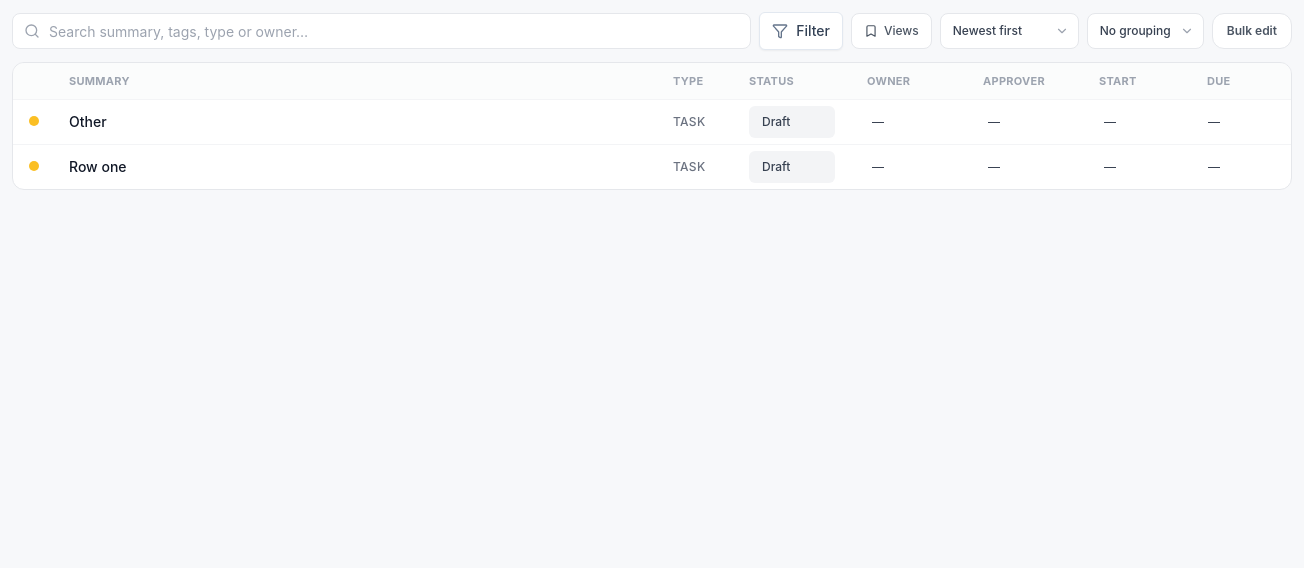
Test: ListView row context menu (Step 1) › opens custom menu on right-click and lists actions
The image size is (1304, 568).
Expected: the text "Row one" is shown, [69,158,126,175]
Step 1. Right-click the text "Row one" → (652, 167), box [13,144,1291,189]
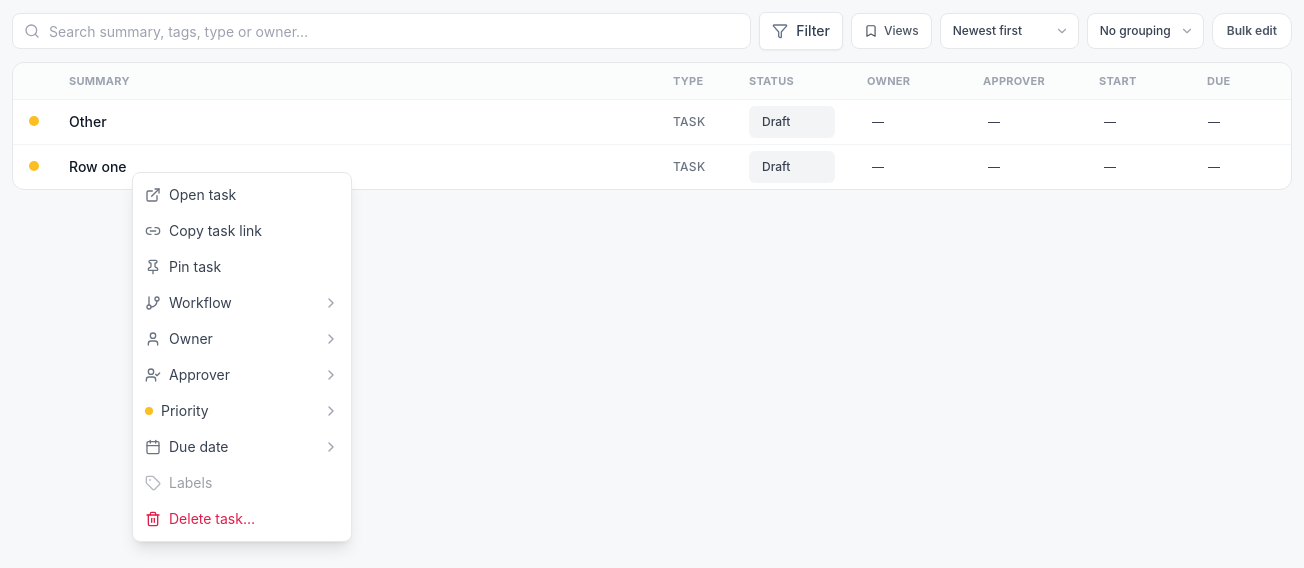
Now the menu item "Open task" is shown, box [133,177,351,213]
Now the menu item "Copy task link" is shown, box [133,213,351,249]
Now the menu item "Workflow" is shown, box [133,285,351,321]
